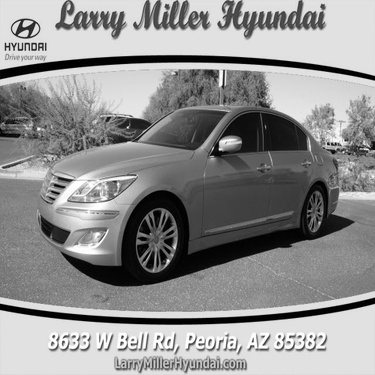car: (17, 86, 354, 279)
